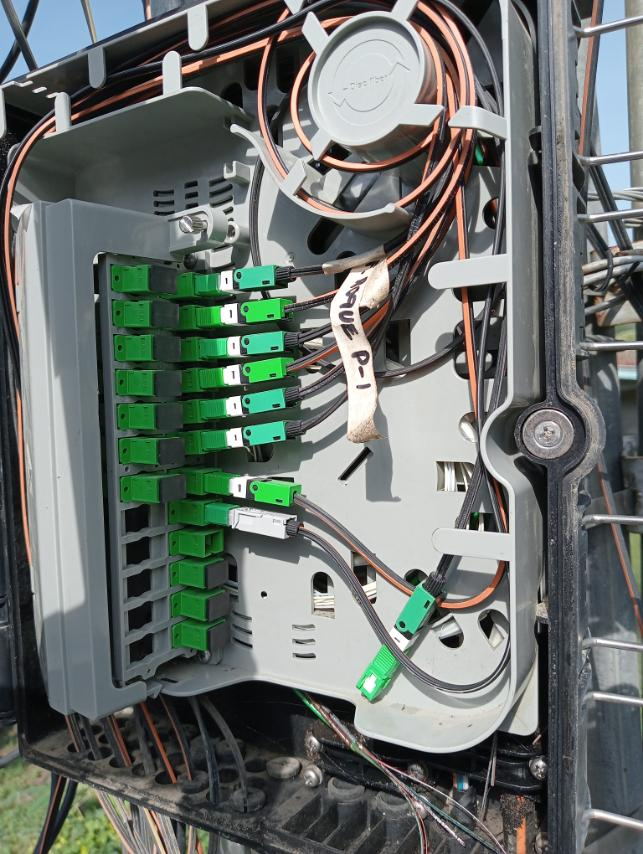no dust cap: (204, 531, 224, 557)
no port: (124, 595, 168, 638), (126, 627, 170, 670), (122, 565, 166, 602), (121, 502, 165, 537), (123, 533, 167, 568)
occupied: (193, 325, 298, 359), (195, 355, 300, 389), (192, 262, 297, 295), (195, 294, 300, 327), (197, 387, 302, 420), (200, 420, 305, 453), (206, 505, 299, 542), (205, 473, 299, 507)
vacant: (153, 300, 181, 328), (150, 265, 177, 294), (159, 476, 187, 502), (155, 371, 182, 397), (156, 405, 183, 431), (159, 438, 186, 464), (153, 335, 181, 360), (207, 560, 228, 588), (209, 592, 230, 620), (210, 623, 230, 652)
